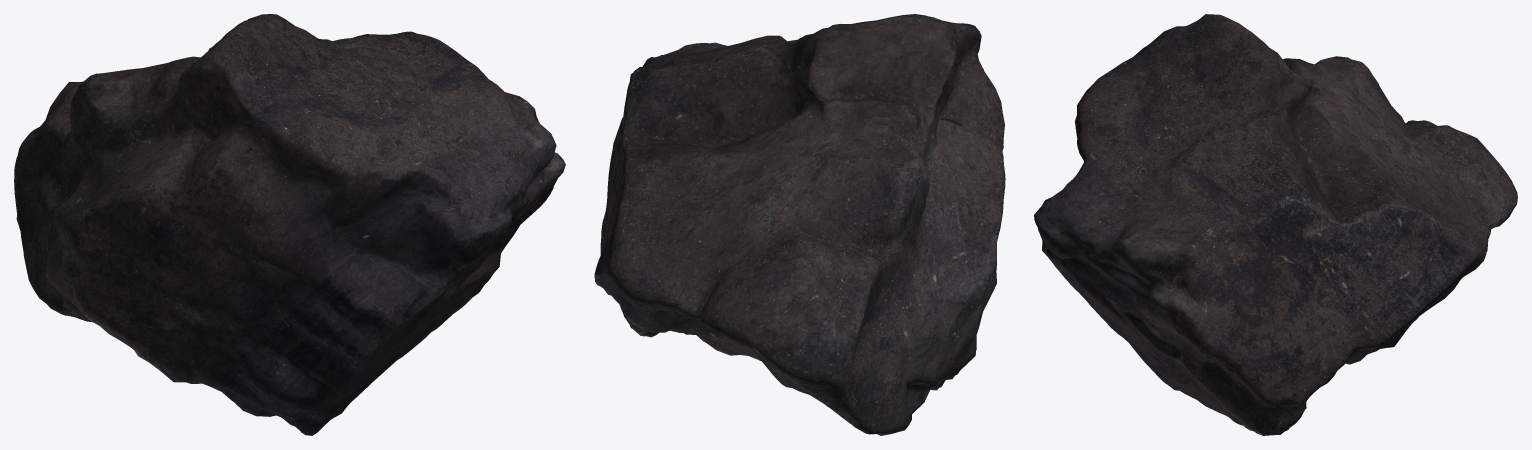
The model's file is DBS_ex_01.gltf.
The picture shows the model from 3 angles, left to right: view 1: azimuth 30°, elevation 25°; view 2: azimuth 150°, elevation 25°; view 3: azimuth 270°, elevation 25°; orthographic projection. The views are drawn at different scales.
Visible parts, largest first — view 1: coal_low_mesh; view 2: coal_low_mesh; view 3: coal_low_mesh.
Part boxes in pixels (x1,y1,x2,y2): coal_low_mesh: [14, 14, 565, 435]; coal_low_mesh: [594, 14, 1005, 435]; coal_low_mesh: [1034, 14, 1517, 435].
Size of the model in its own units: 1779 by 1543 by 1944.
1 material, 1 textured.
